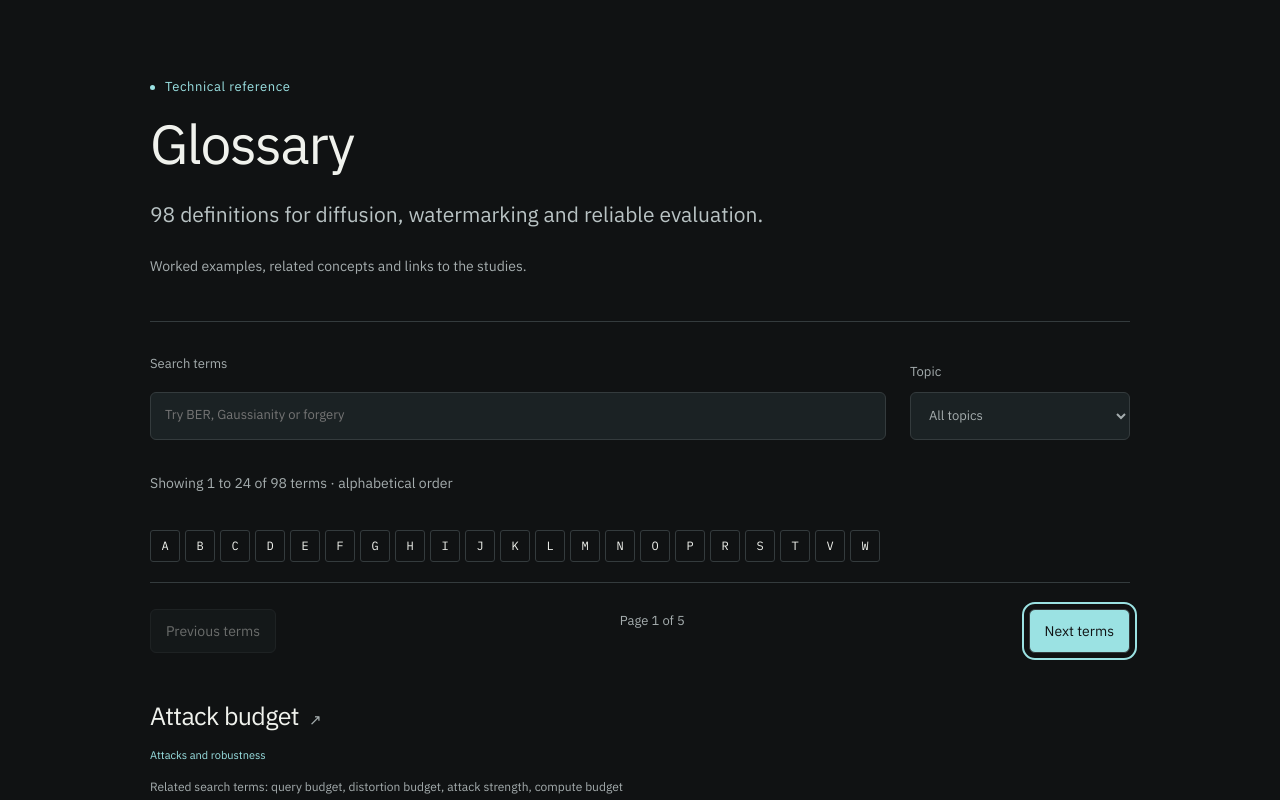
Scenario: glossary reading and navigation › allows every term to be read once through pagination without forcing heading focus
The image size is (1280, 800).
Expected: the button "Previous terms" is disabled, [150,609,276,653]
Click the button "Next terms".
click(1079, 631)  # box [1028,609,1130,653]
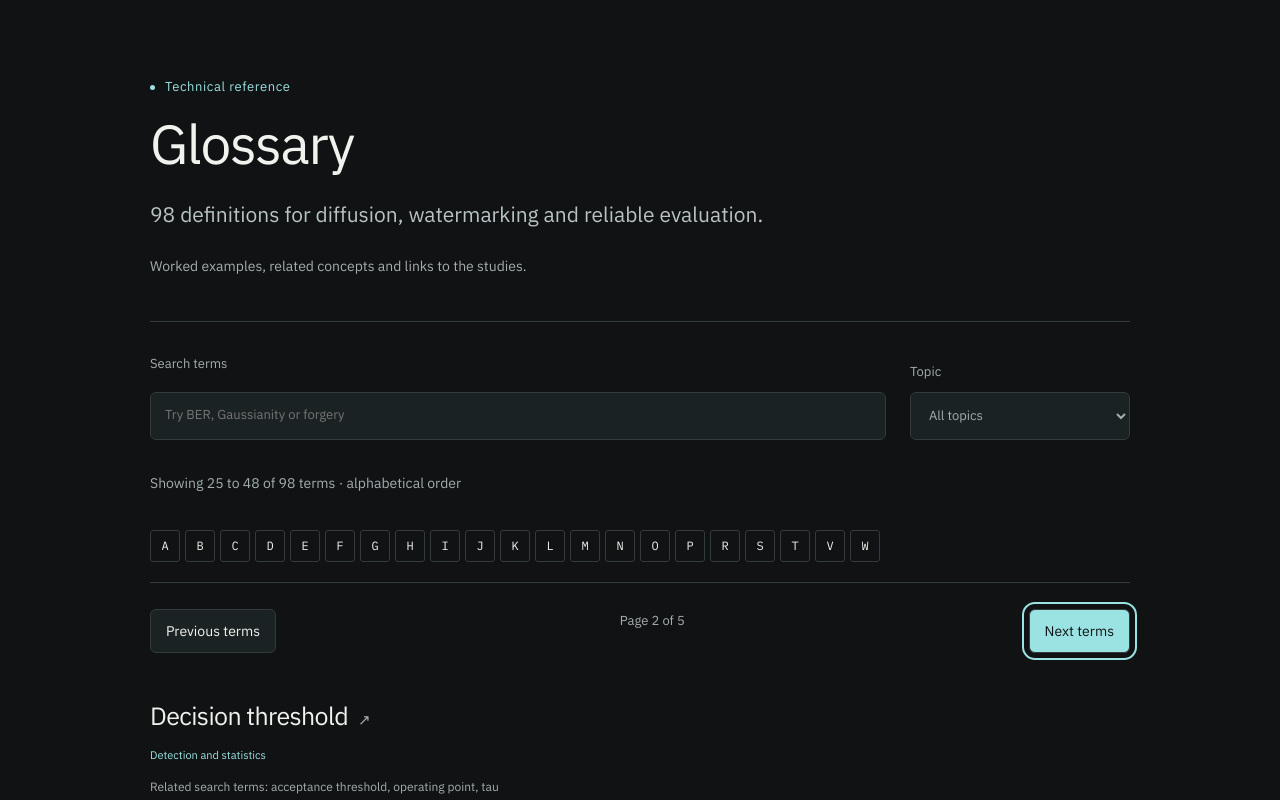
Click the button "Next terms".
click(1079, 631)  # box [1028,609,1130,653]
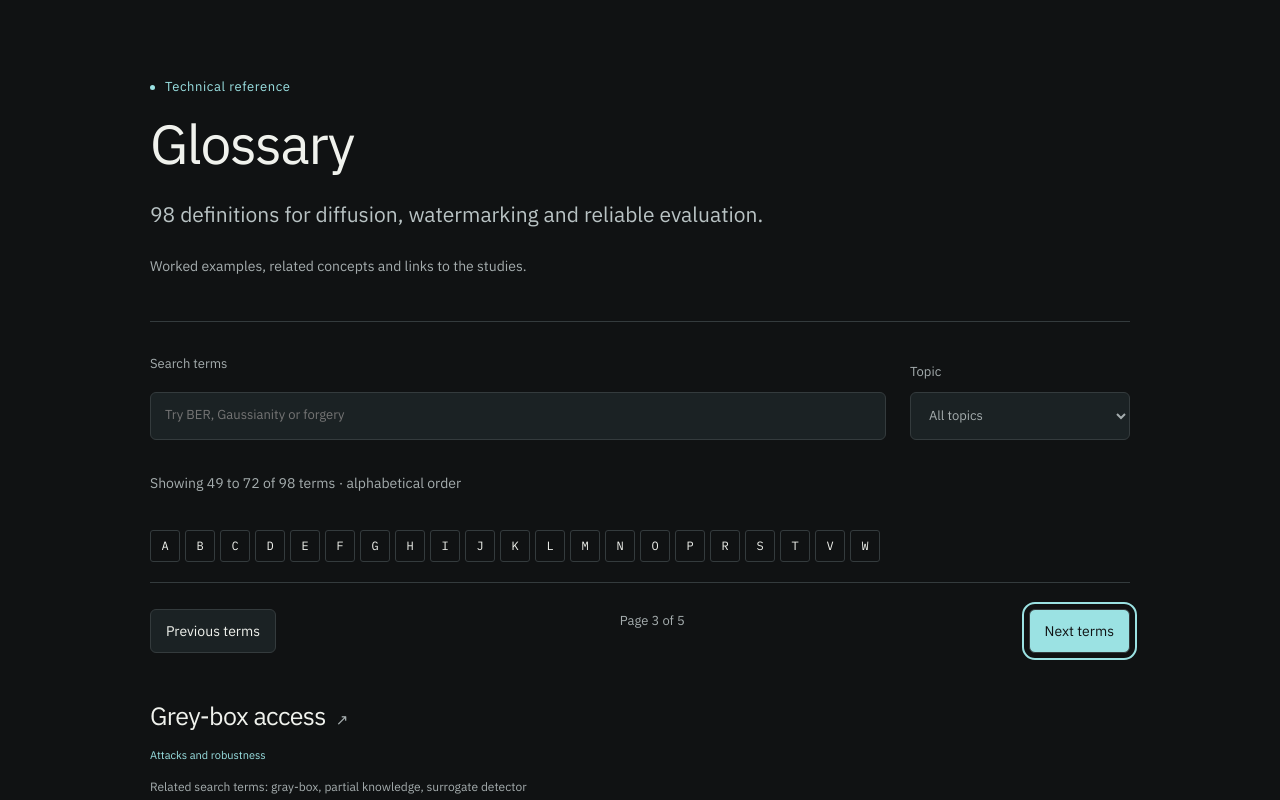
Click the button "Next terms".
click(1079, 631)  # box [1028,609,1130,653]
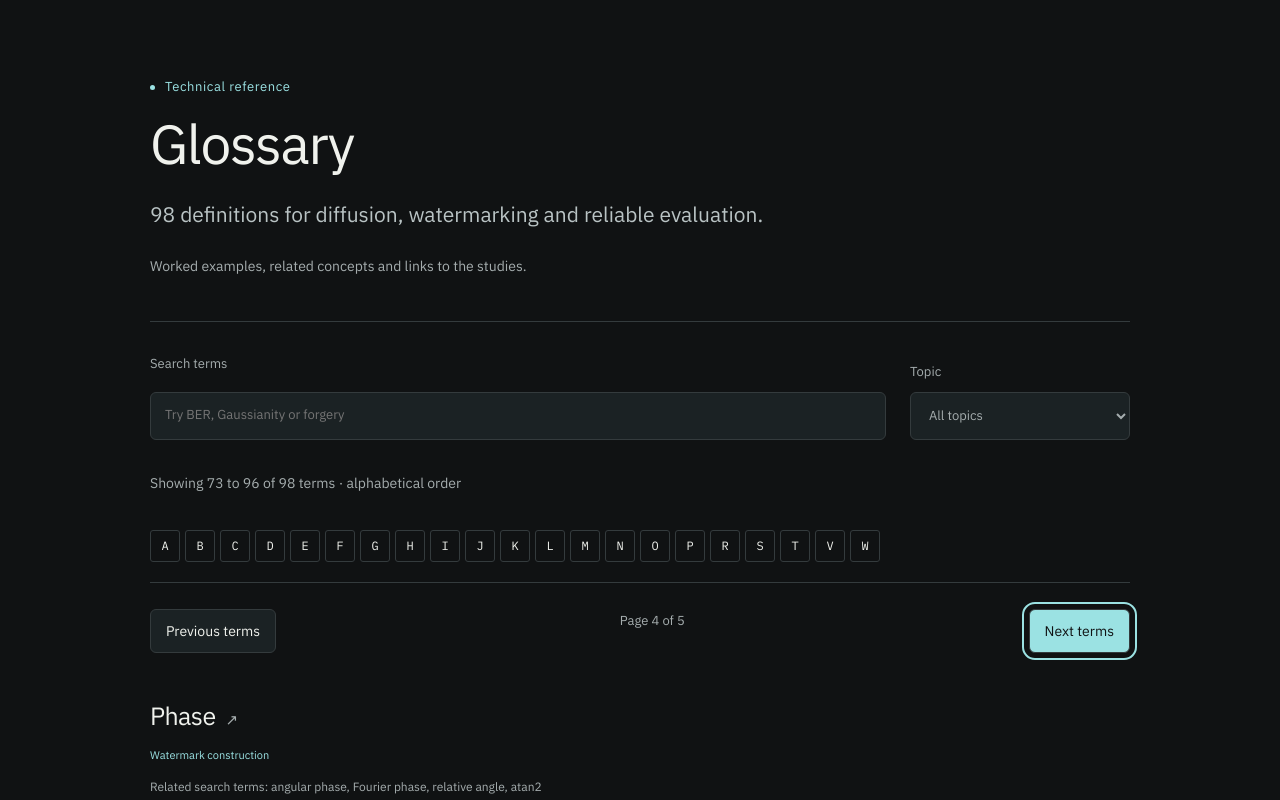
Click the button "Next terms".
click(1079, 631)  # box [1028,609,1130,653]
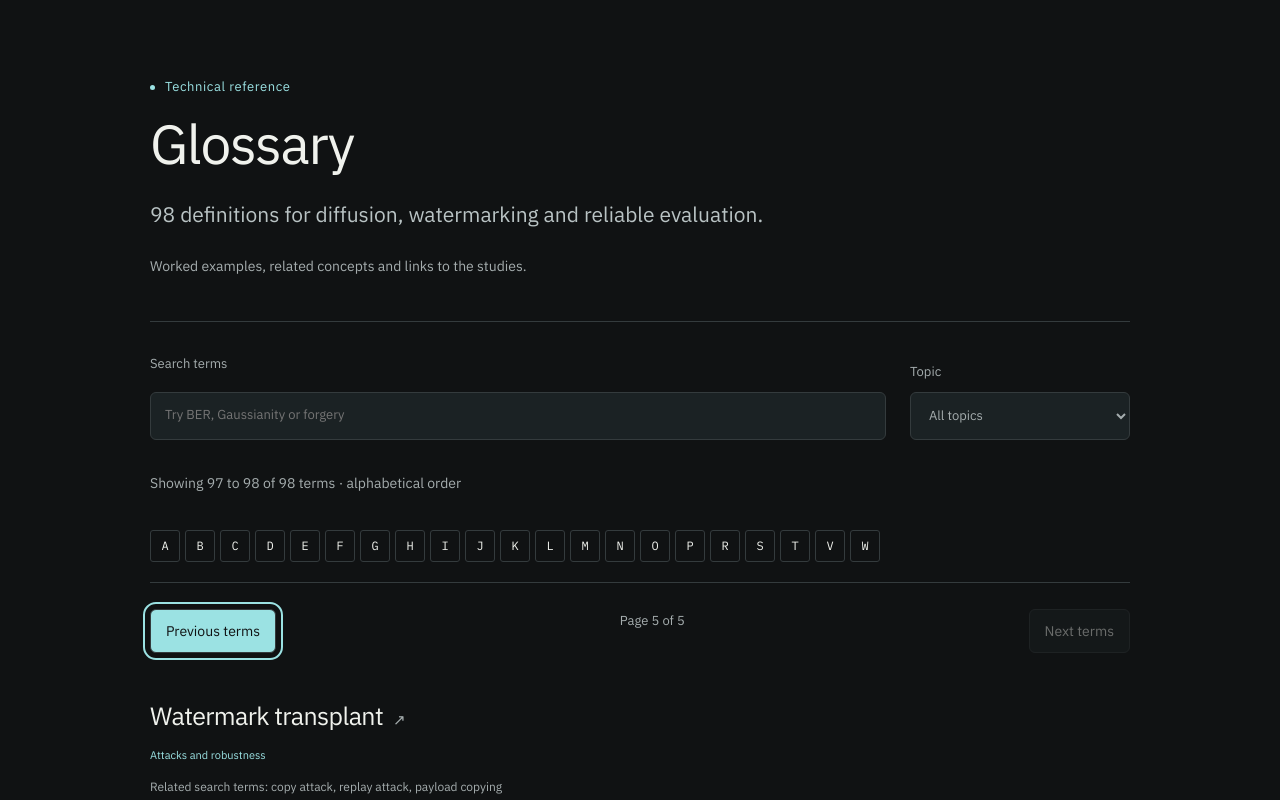
Result: the button "Next terms" is disabled at [1028,609,1130,653]
Result: the message shows "Showing 97 to 98 of 98 terms" at [150,474,335,492]
Click the button "Previous terms".
click(213, 631)  # box [150,609,276,653]
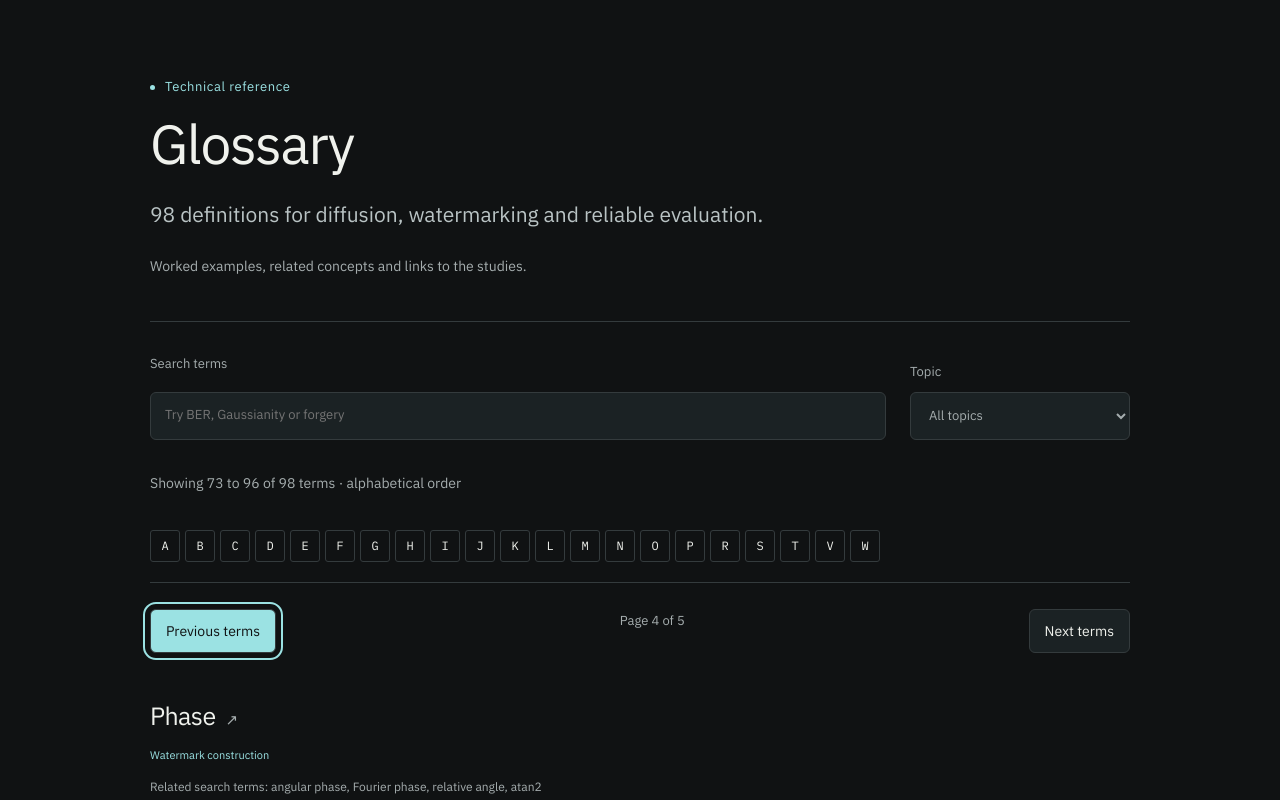
Result: the message shows "Showing 73 to 96 of 98 terms" at [150,474,335,492]
